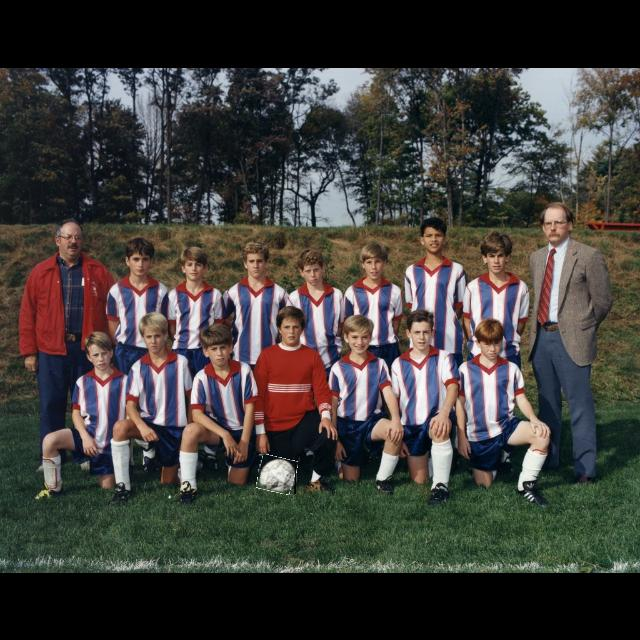Football: (258, 456, 296, 494)
